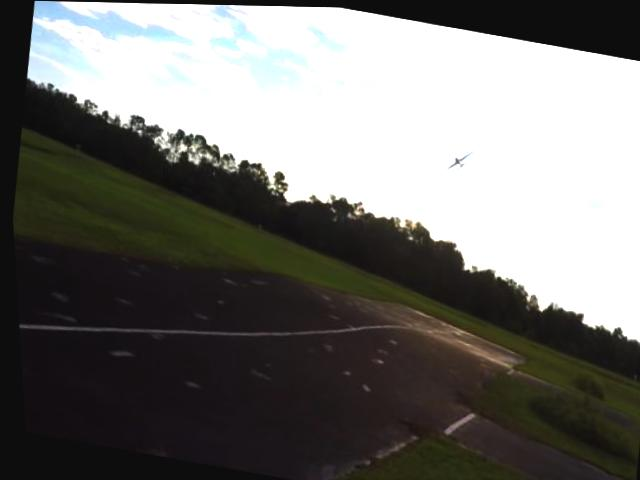uav: (432, 135, 479, 182)
